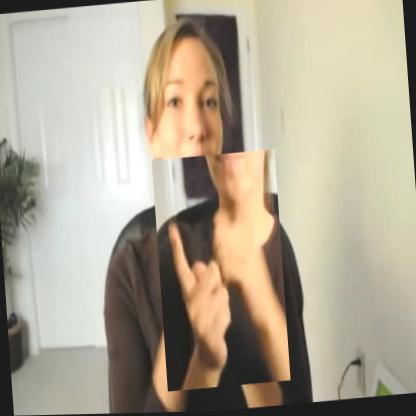NiceToMeetYou: (152, 149, 290, 393)
